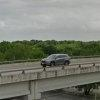Car: (38, 53, 72, 68)
